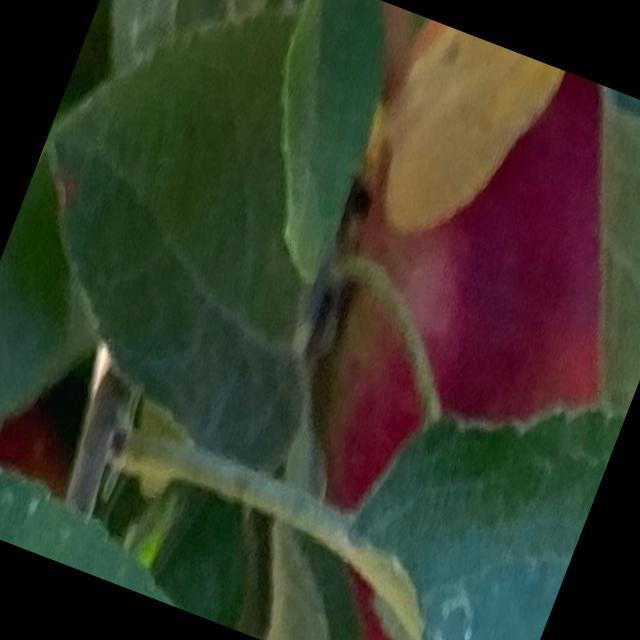100-_ripeness: (207, 21, 639, 639)
